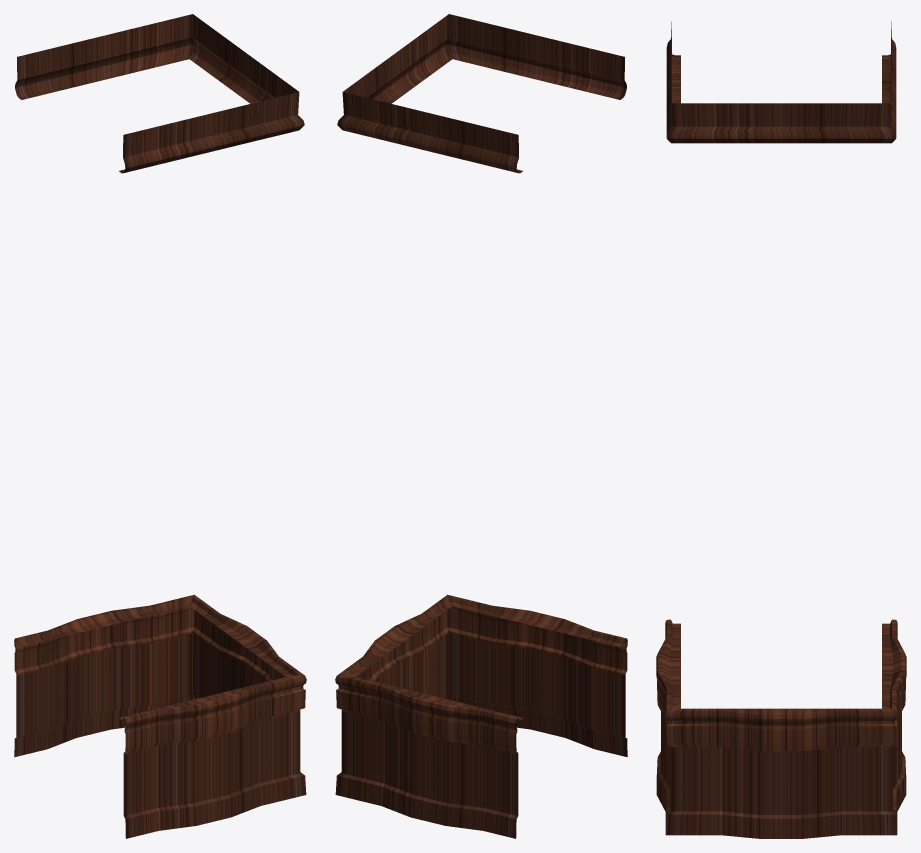
The model's file is Wallbar_Ston_03.fbx.
3 renders of one model, left to right at view 1: azimuth 30°, elevation 25°; view 2: azimuth 150°, elevation 25°; view 3: azimuth 270°, elevation 25°, orthographic. The views are drawn at different scales.
Parts seen in each view (by area): view 1: SM_Wallbar_Ston_03; view 2: SM_Wallbar_Ston_03; view 3: SM_Wallbar_Ston_03.
Boxes of the visible parts, x1=… form: SM_Wallbar_Ston_03: x1=14, y1=14, x2=306, y2=838; SM_Wallbar_Ston_03: x1=335, y1=14, x2=627, y2=838; SM_Wallbar_Ston_03: x1=656, y1=21, x2=906, y2=838.
Size of the model in its own units: 112 by 400 by 124.
